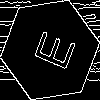E: (25, 25, 76, 73)
